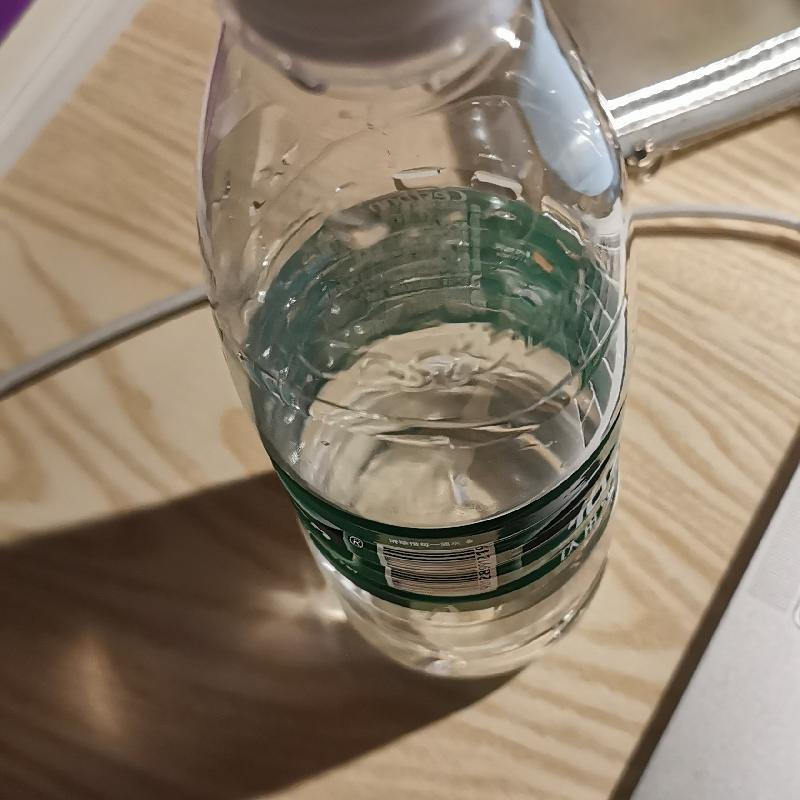bottles: (208, 5, 623, 680)
